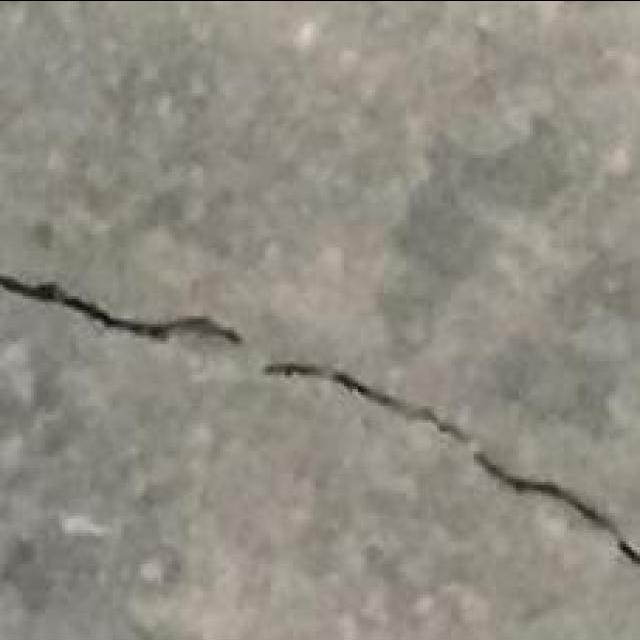Crack: (263, 360, 638, 565), (0, 272, 242, 345)
